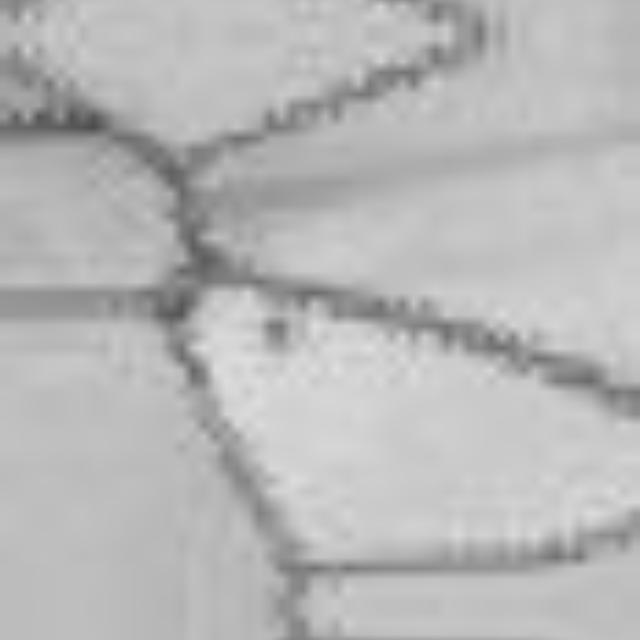good_void: (244, 303, 312, 360)
